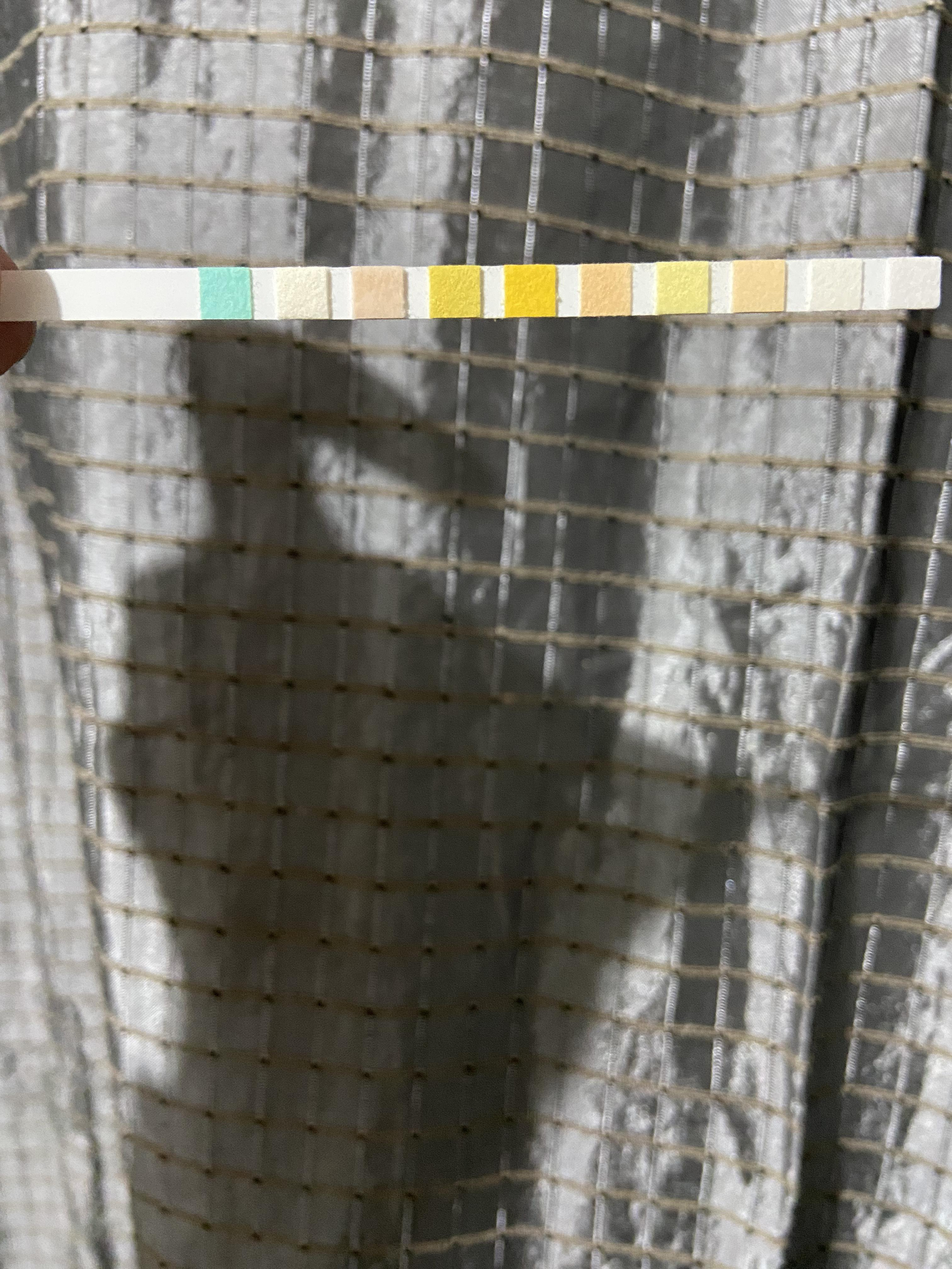Bilirubin: (279, 270, 326, 317)
Blood: (505, 267, 553, 315)
Glucose: (202, 269, 249, 317)
Ketone: (354, 269, 402, 317)
Leukocytes: (891, 260, 938, 308)
Nitrite: (814, 261, 861, 309)
Protein: (659, 265, 706, 313)
SpGravity: (431, 268, 478, 316)
Urobilinogen: (733, 262, 783, 311)
pH: (582, 266, 629, 313)
strip: (0, 257, 941, 321)
